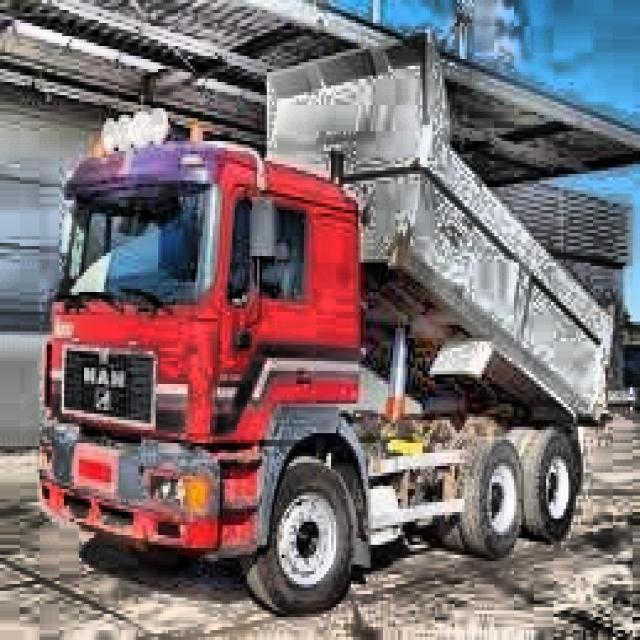dump_truck: (43, 28, 621, 617)
